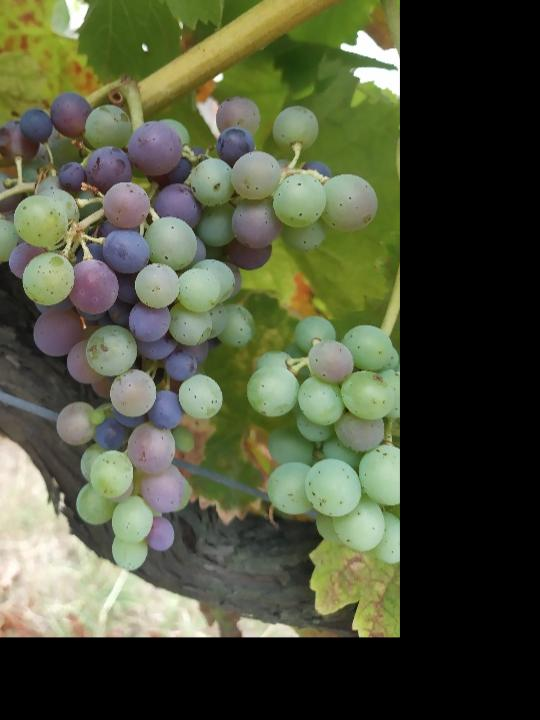grape: (0, 95, 378, 574)
